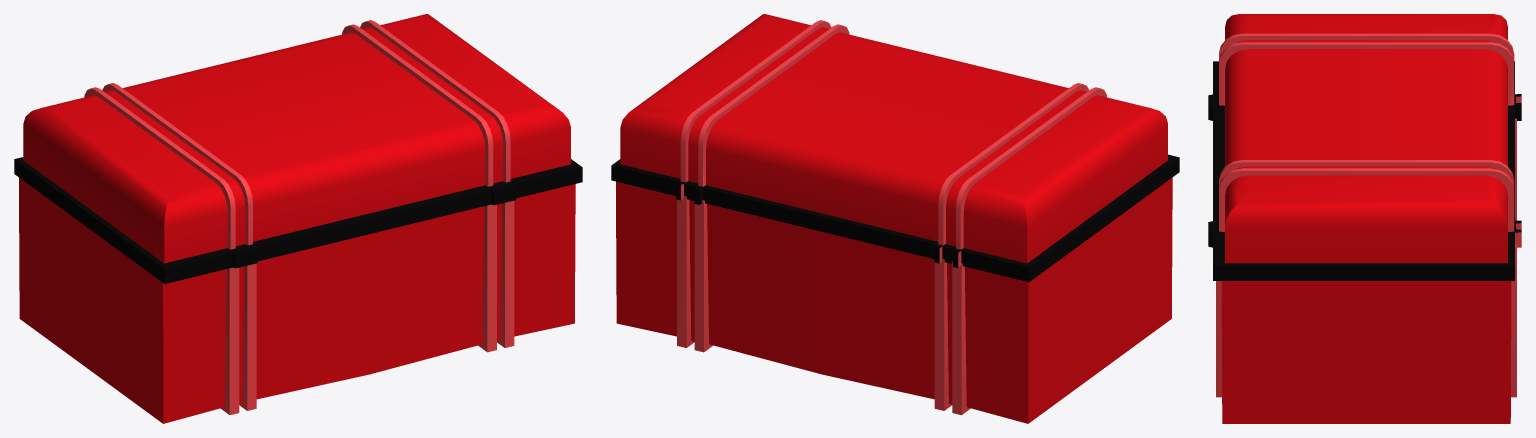
The model's file is crate2.fbx.
The picture shows the model from 3 angles, left to right: view 1: azimuth 30°, elevation 25°; view 2: azimuth 150°, elevation 25°; view 3: azimuth 270°, elevation 25°; orthographic projection.
Parts seen in each view (by area): view 1: Cube.006, Cube; view 2: Cube.006, Cube; view 3: Cube.006, Cube.
Part boxes in pixels (x1,y1,x2,y2): Cube.006: (14,14,582,283); Cube: (19,177,575,423); Cube.006: (611,14,1179,282); Cube: (616,177,1172,423); Cube.006: (1208,14,1521,280); Cube: (1213,118,1516,423).
Size of the model in its own units: 205 by 105 by 133.
